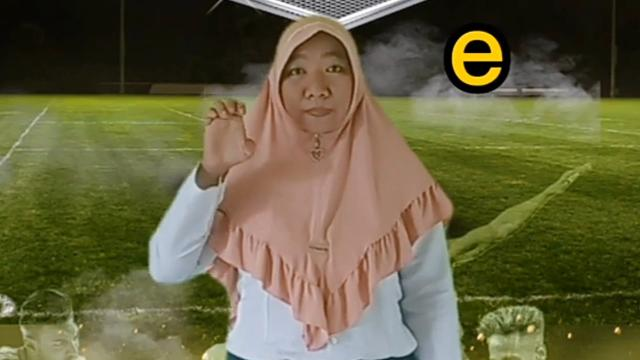E: (200, 98, 258, 174)
